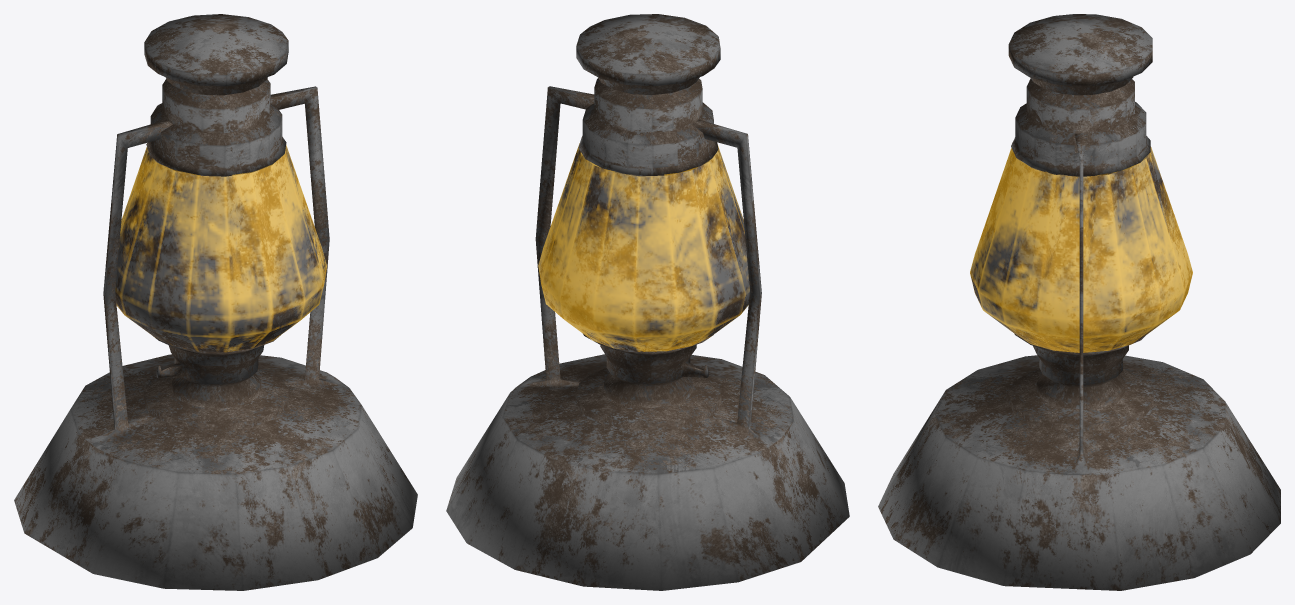
The model's file is B.Prop_Lantern_01.fbx.
3 views of the same model, side by side, from view 1: azimuth 30°, elevation 25°; view 2: azimuth 150°, elevation 25°; view 3: azimuth 270°, elevation 25° (orthographic).
Visible parts, largest first — view 1: Cylinder; view 2: Cylinder; view 3: Cylinder.
Boxes of the visible parts, left/top/right/bottom form: Cylinder: left=14, top=14, right=417, bottom=590; Cylinder: left=446, top=14, right=849, bottom=590; Cylinder: left=878, top=14, right=1280, bottom=590.
Size of the model in its own units: 195 by 255 by 197.
1 material, 1 textured.
